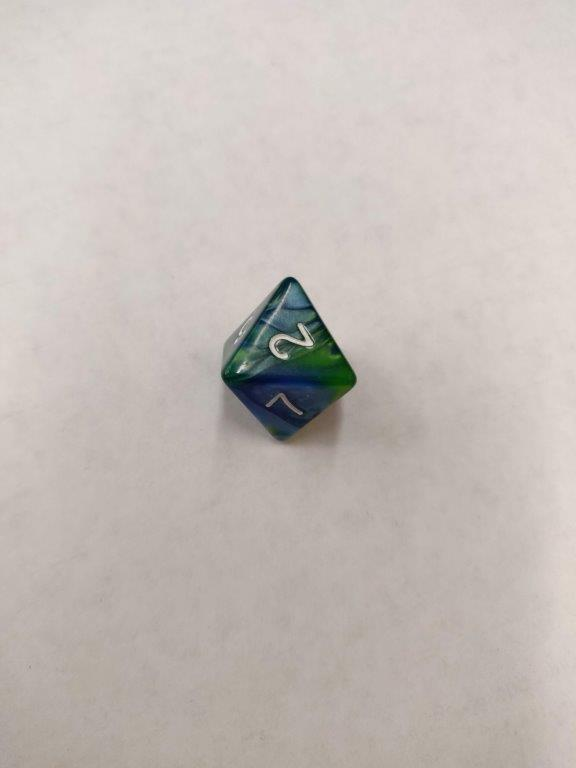d8-2: (220, 276, 358, 446)
